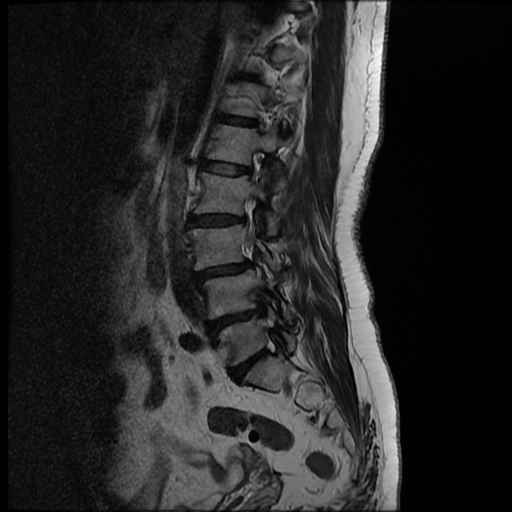RFS0: (233, 142, 273, 188)
